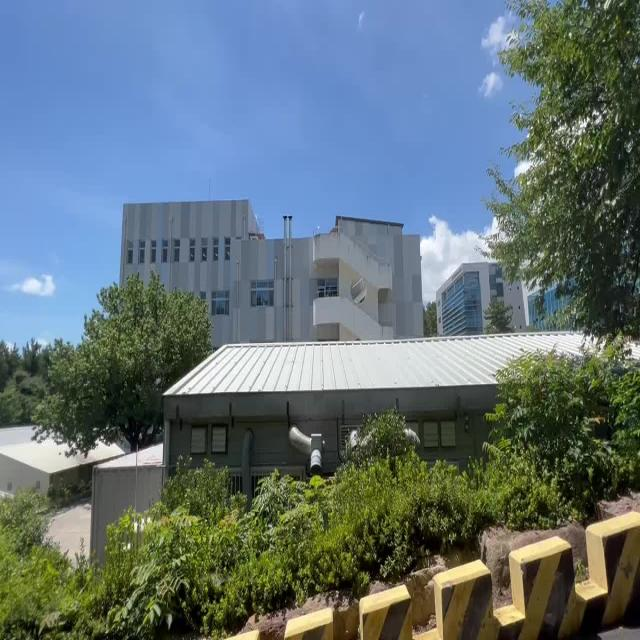building: (126, 192, 432, 336)
